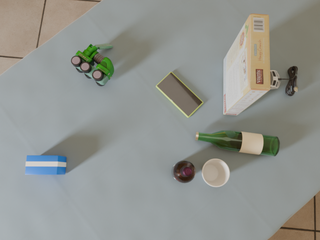bottle: (195, 131, 280, 156), (172, 160, 196, 183)
box: (223, 14, 270, 115), (25, 156, 66, 174)
cup: (202, 159, 230, 187)
mouse: (270, 70, 282, 89)
phone: (156, 72, 203, 118)
toy_car: (71, 44, 114, 86)
